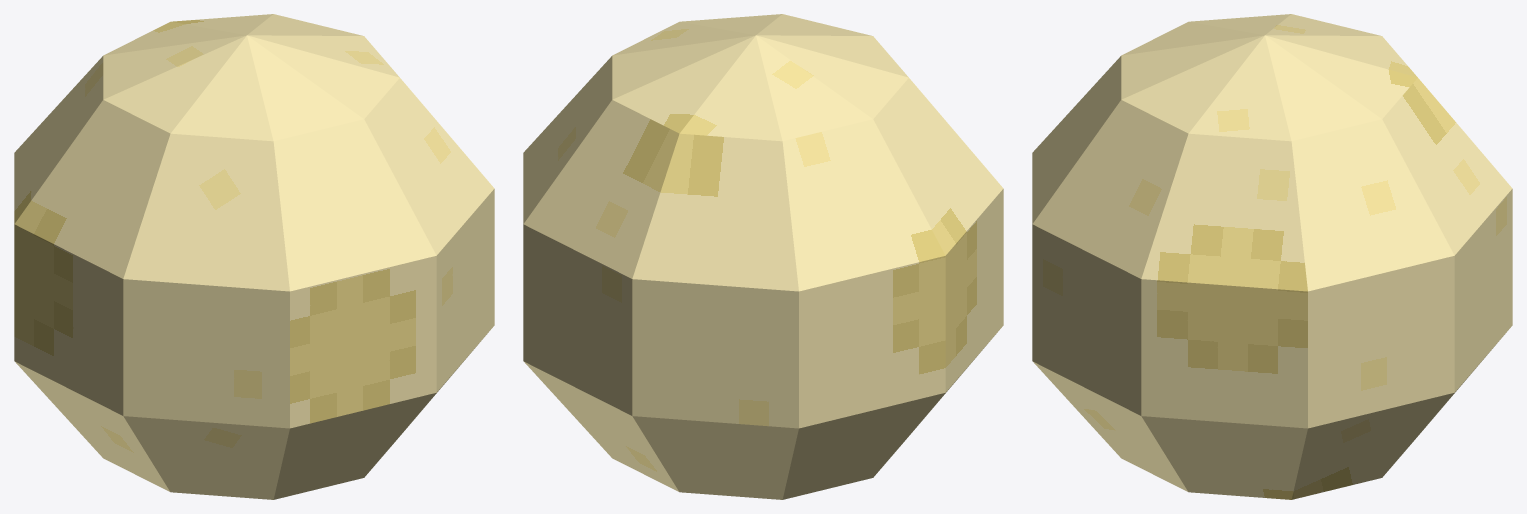
File: Moon Model.fbx
The picture shows the model from 3 angles, left to right: view 1: azimuth 30°, elevation 25°; view 2: azimuth 150°, elevation 25°; view 3: azimuth 270°, elevation 25°; orthographic projection.
Visible parts, largest first — view 1: sphere; view 2: sphere; view 3: sphere.
Part boxes in pixels (x1=…): sphere: x1=14, y1=14, x2=494, y2=499; sphere: x1=523, y1=14, x2=1003, y2=499; sphere: x1=1032, y1=14, x2=1512, y2=499.
Size of the model in its own units: 99.67 by 100 by 98.16.
Materials: 1 (1 with a texture image).
